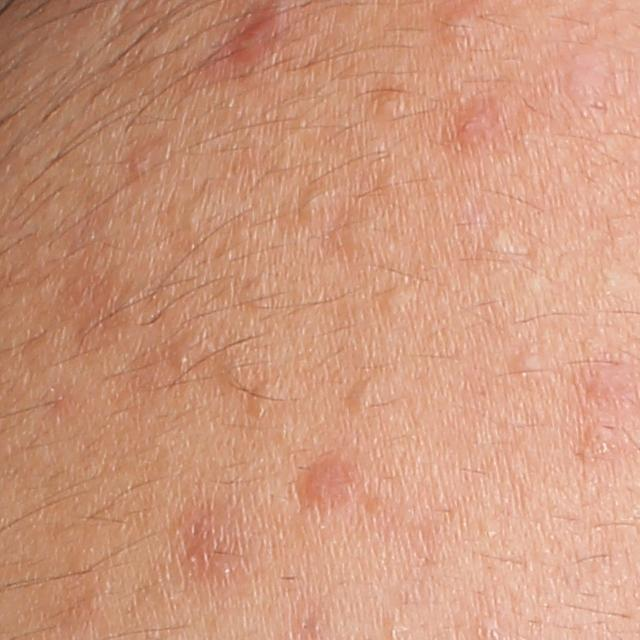comedo: (328, 212, 388, 252), (511, 347, 558, 386), (343, 377, 388, 413), (161, 337, 204, 374), (479, 220, 516, 256), (375, 87, 409, 116), (378, 288, 413, 315), (301, 187, 331, 215)
